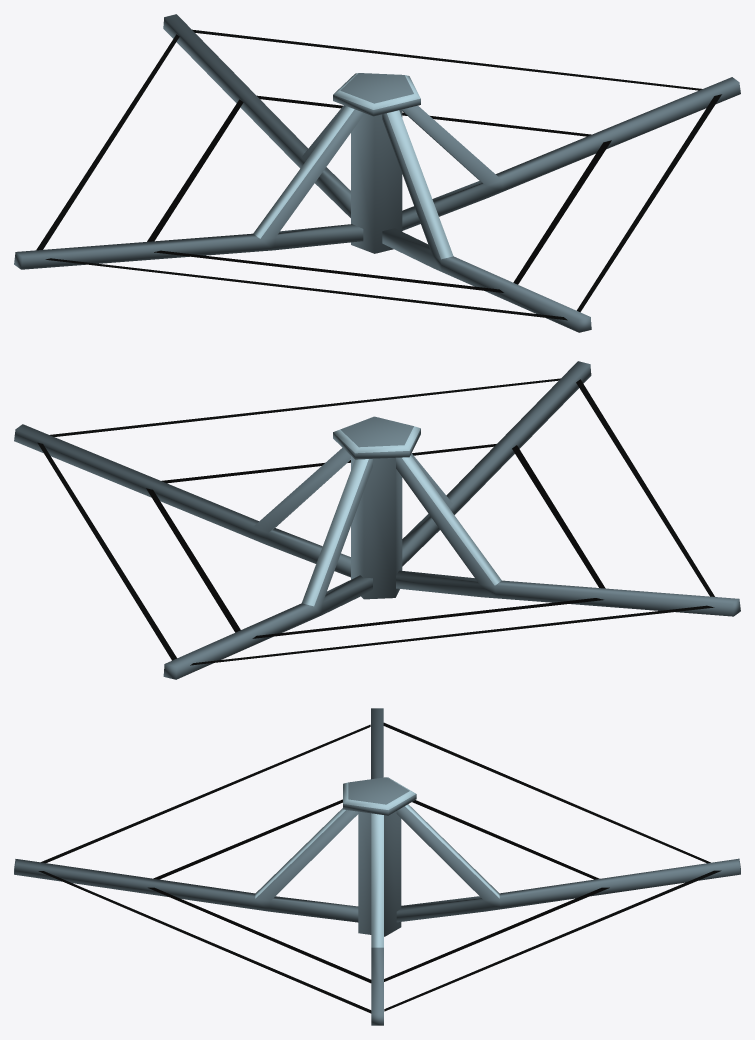
The model's file is Hills Hoist Top.glb.
The picture shows the model from 3 angles, top to bottom: view 1: azimuth 30°, elevation 25°; view 2: azimuth 150°, elevation 25°; view 3: azimuth 270°, elevation 25°; orthographic projection. The views are drawn at different scales.
Visible parts, largest first — view 1: Hills Hoist Top; view 2: Hills Hoist Top; view 3: Hills Hoist Top.
Part boxes in pixels (bbox=[...]): Hills Hoist Top: bbox=[14, 14, 740, 332]; Hills Hoist Top: bbox=[14, 361, 740, 679]; Hills Hoist Top: bbox=[14, 708, 740, 1025].
Size of the model in its own units: 6.9 by 1.43 by 6.9.
1 material, 1 textured.
